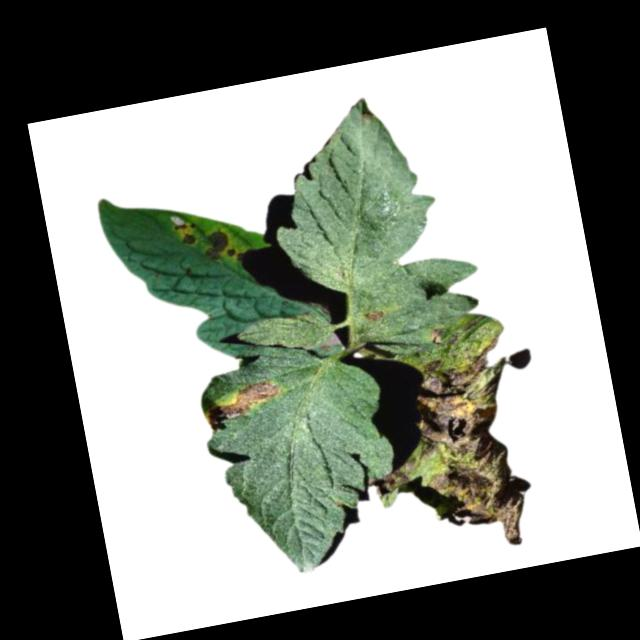Early_blight: (339, 312, 540, 571), (200, 379, 285, 434), (202, 228, 243, 266), (173, 218, 201, 251), (362, 307, 388, 326)
